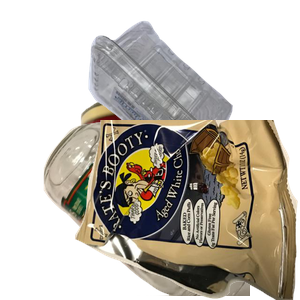glass: (41, 120, 281, 300)
metal: (69, 93, 265, 273)
plastic: (86, 18, 300, 171)
trash: (75, 120, 300, 300)
